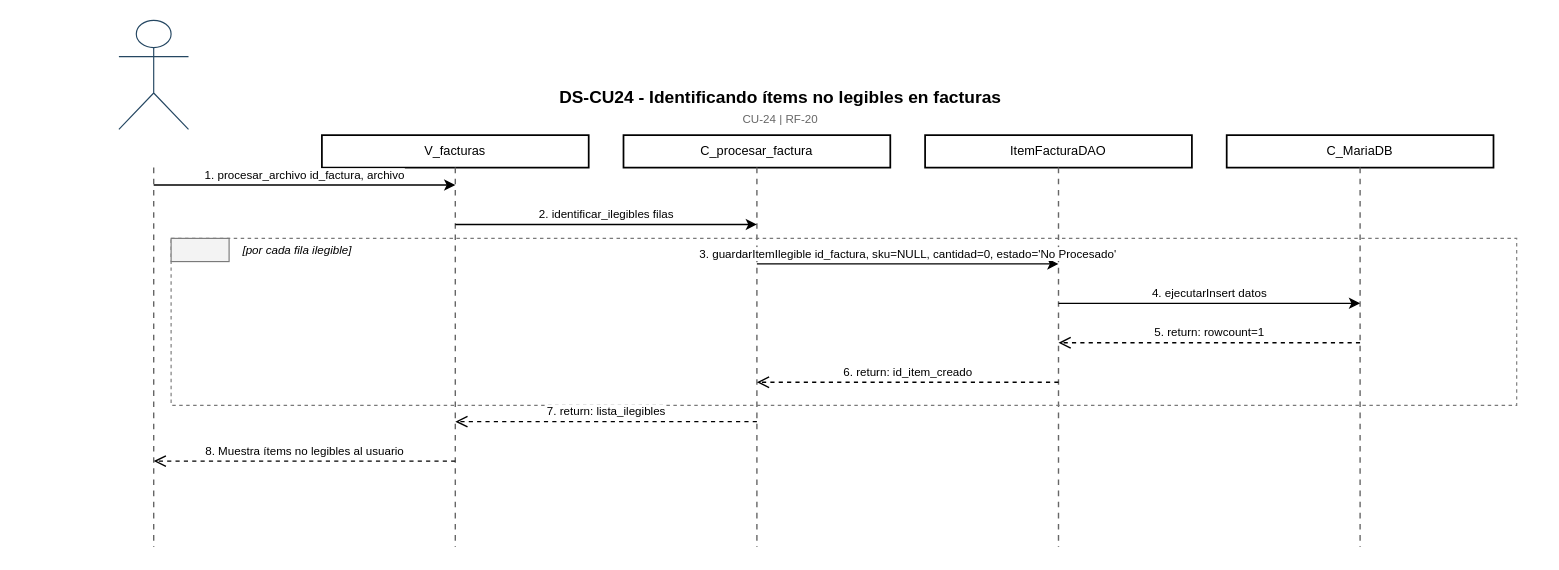
Some shapes in this 1559 by 570 pixel diagram are drawn without their labels. The box of each missing label's shape, as (x1, y1, x2, y2) in pixels:
Admin/Bodeguero: (118, 19, 188, 129)
loop: (170, 237, 229, 262)
